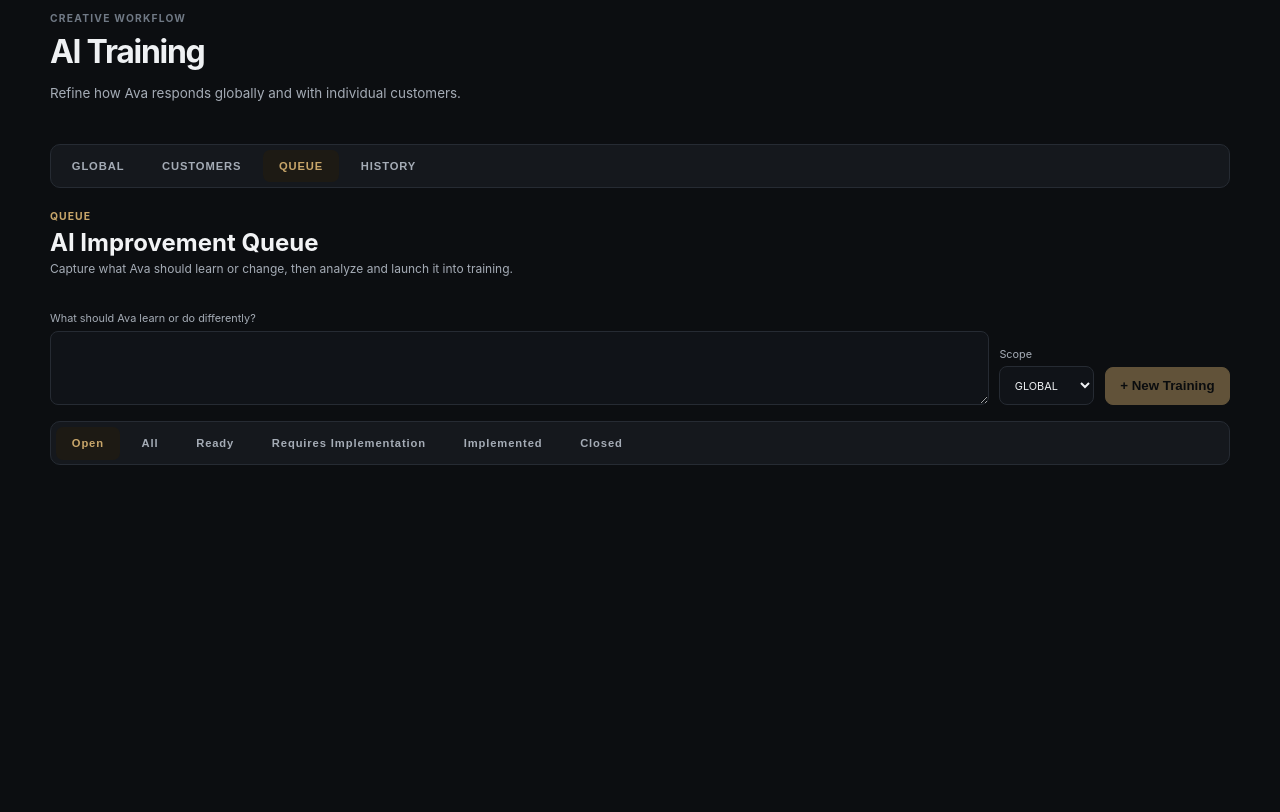
it: AI Training workspace › routes implemented customer training by immutable canonical key despite mutable display identity
Step 1. Click the button "Implemented" → x=503, y=443, box x1=448 y1=427 x2=559 y2=460
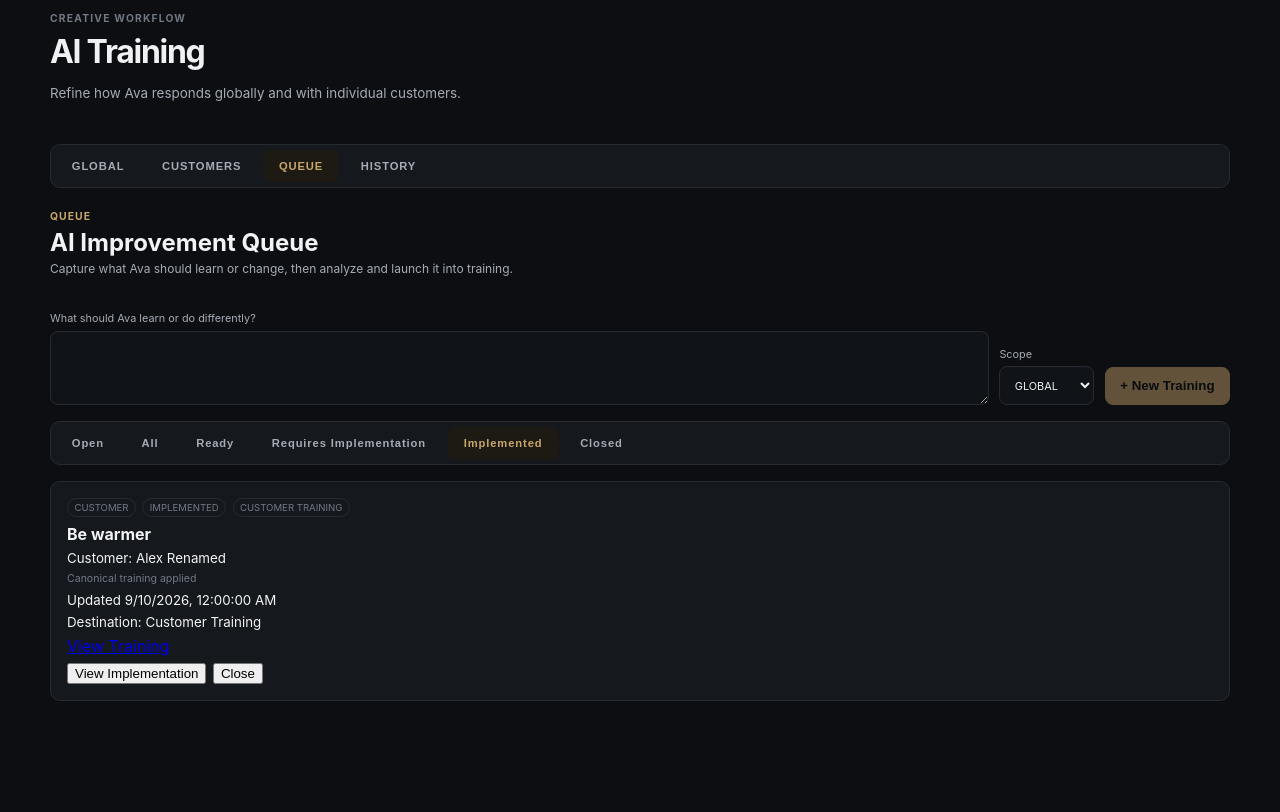
Result: the text "Customer: Alex Renamed" is shown at x1=67 y1=550 x2=226 y2=566
Step 2. Click the link "View Training" → x=118, y=646, box x1=67 y1=636 x2=170 y2=656
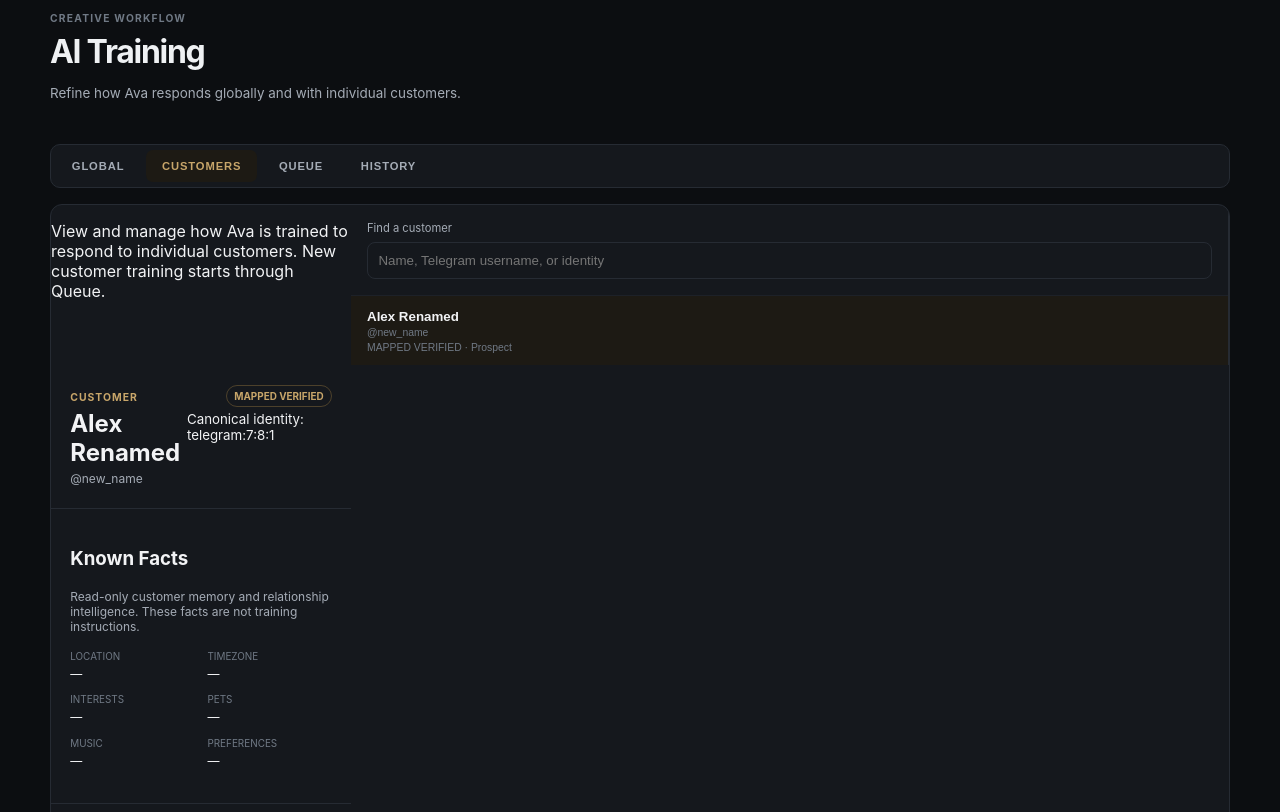
Result: the heading "Alex Renamed" is shown at x1=70 y1=408 x2=187 y2=466
